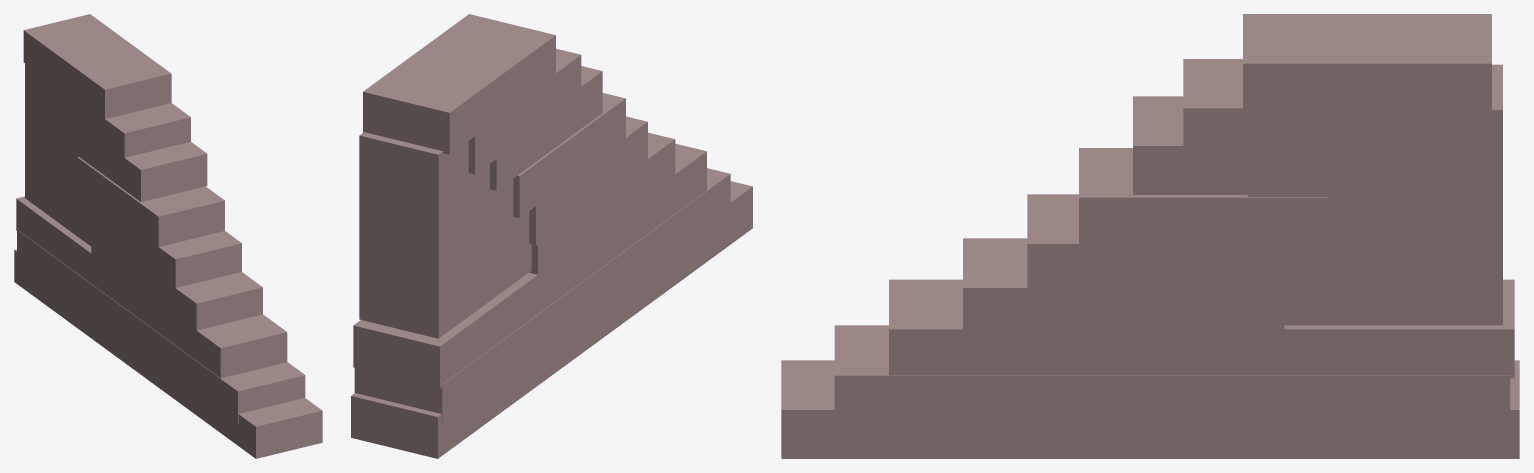
File: StoneStairsUnsculpted.fbx
3 renders of one model, left to right at view 1: azimuth 30°, elevation 25°; view 2: azimuth 150°, elevation 25°; view 3: azimuth 270°, elevation 25°, orthographic. The views are drawn at different scales.
Parts seen in each view (by area): view 1: stairs; view 2: stairs; view 3: stairs.
Boxes of the visible parts, bbox=[...] form: stairs: bbox=[14, 14, 322, 458]; stairs: bbox=[351, 14, 752, 458]; stairs: bbox=[781, 14, 1519, 458].
Size of the model in its own units: 4.4 by 16.13 by 27.31.
